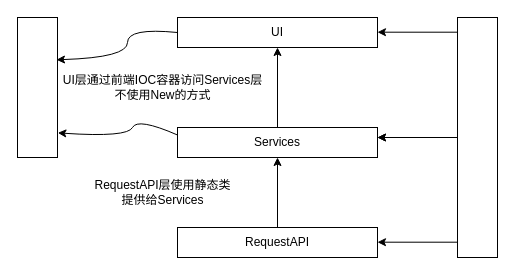
Image size: 515x275. Some labels were removed from this diagram. The centre of each missing label's shape, as x and y in pixels:
前端 IOC: pixel 37 87
前端Model: pixel 477 137
